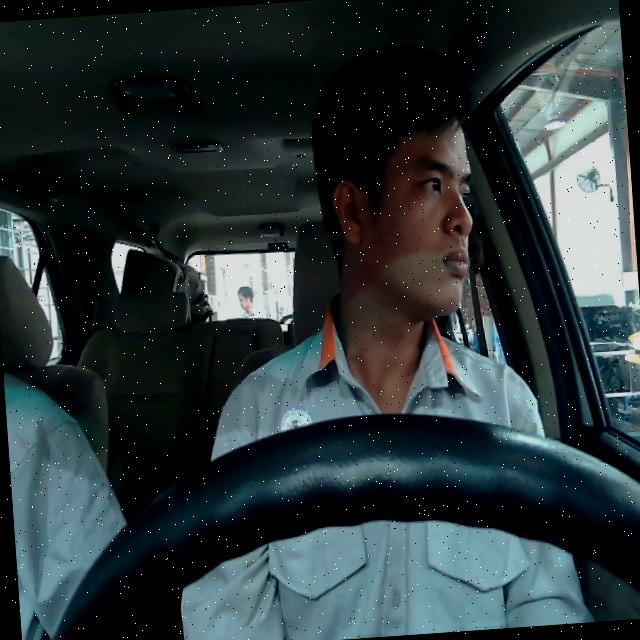seeing_right: (323, 112, 482, 326)
